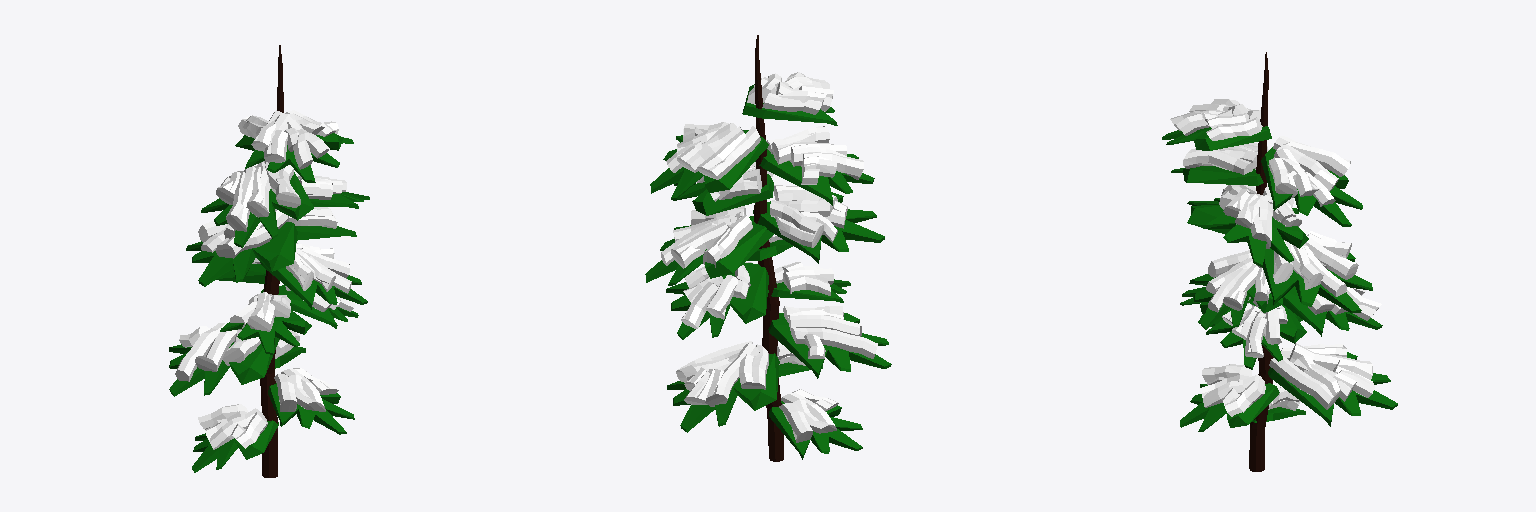
3 views of the same model, side by side, from view 1: azimuth 30°, elevation 25°; view 2: azimuth 150°, elevation 25°; view 3: azimuth 270°, elevation 25° (orthographic).
Visible parts, largest first — view 1: group[number redacted]; view 2: group[number redacted]; view 3: group[number redacted].
Part boxes in pixels (bbox=[...]): group[number redacted]: bbox=[169, 45, 369, 477]; group[number redacted]: bbox=[645, 35, 891, 461]; group[number redacted]: bbox=[1162, 52, 1397, 471].
Bounding box in the file's own units: 0.3981 × 0.7827 × 0.3955.